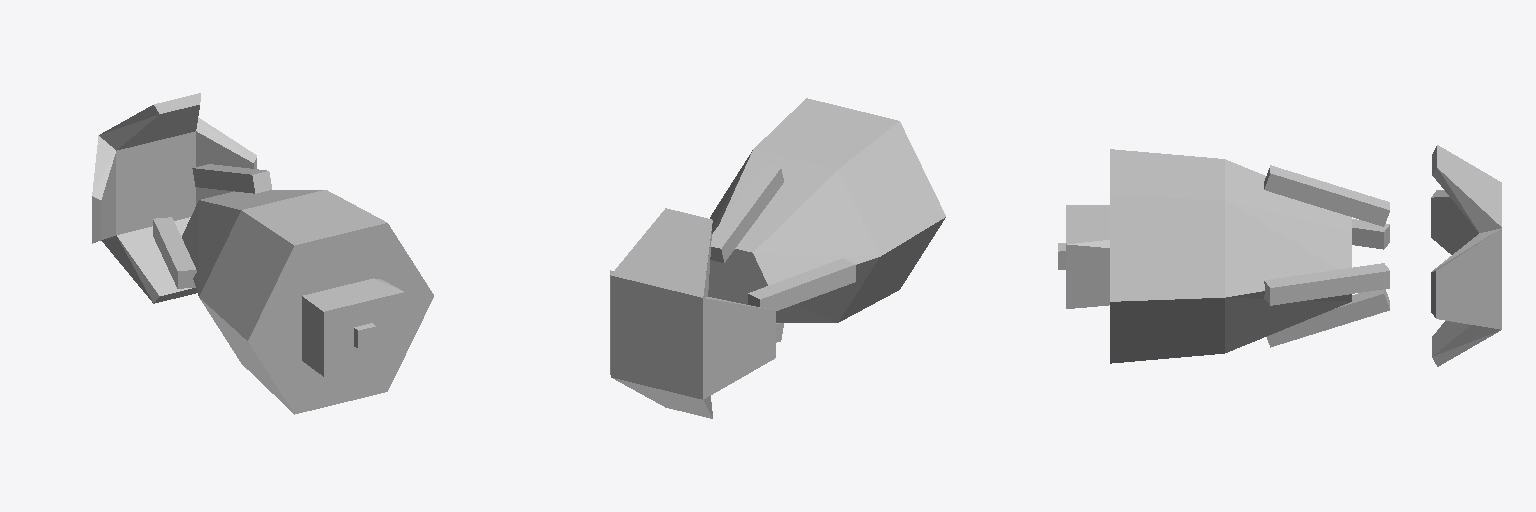
File: wep17_static.obj
3 views of the same model, side by side, from view 1: azimuth 30°, elevation 25°; view 2: azimuth 150°, elevation 25°; view 3: azimuth 270°, elevation 25° (orthographic).
Parts seen in each view (by area): view 1: frm-wepbas1, frm-wepbar2, frm-wepbase3, frm-wepbar11, frm-wepbar14, frm-wepbar13, frm-wepbar10; view 2: frm-wepbas1, frm-wepbar2, frm-wepbar14, frm-wepbar11, frm-wepbar10, frm-wepbar13; view 3: frm-wepbas1, frm-wepbar2, frm-wepbase3, frm-wepbar14, frm-wepbar7, frm-wepbar8, frm-wepbar5, frm-wepbar13, frm-wepbar11, frm-wepbar4.
Part boxes in pixels (x1,y1,x2,y2): frm-wepbas1: (182,190,433,414); frm-wepbar2: (92,93,256,303); frm-wepbase3: (302,278,404,376); frm-wepbar11: (153,217,192,262); frm-wepbar14: (192,164,258,192); frm-wepbar13: (222,170,271,193); frm-wepbar10: (165,245,196,288); frm-wepbas1: (708,98,945,322); frm-wepbar2: (610,208,775,418); frm-wepbar14: (710,176,774,262); frm-wepbar11: (748,264,834,310); frm-wepbar10: (808,258,855,299); frm-wepbar13: (751,164,783,218); frm-wepbas1: (1110,149,1351,363); frm-wepbar2: (1431,145,1501,366); frm-wepbase3: (1066,205,1109,308); frm-wepbar14: (1283,171,1389,226); frm-wepbar7: (1264,273,1330,305); frm-wepbar8: (1303,263,1389,296); frm-wepbar5: (1314,289,1389,333); frm-wepbar13: (1264,165,1329,207); frm-wepbar11: (1352,219,1389,249); frm-wepbar4: (1267,313,1329,347).
Size of the model in its own units: 0.2835 by 0.2895 by 0.5848.